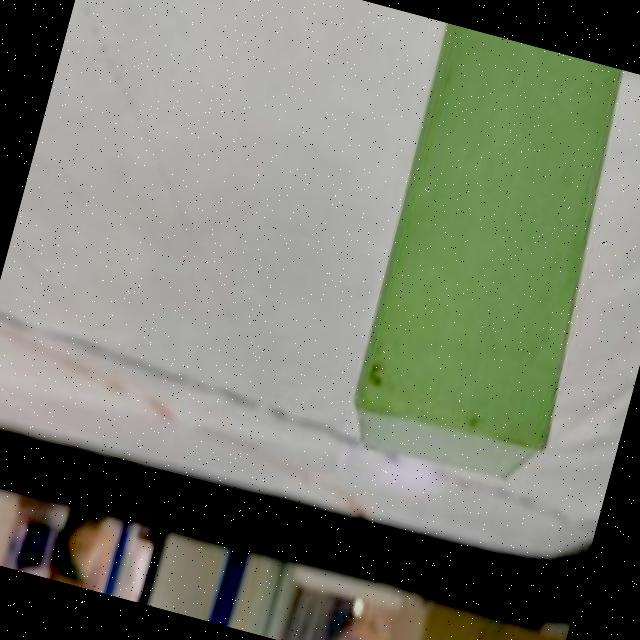greenbox: (331, 22, 640, 500)
